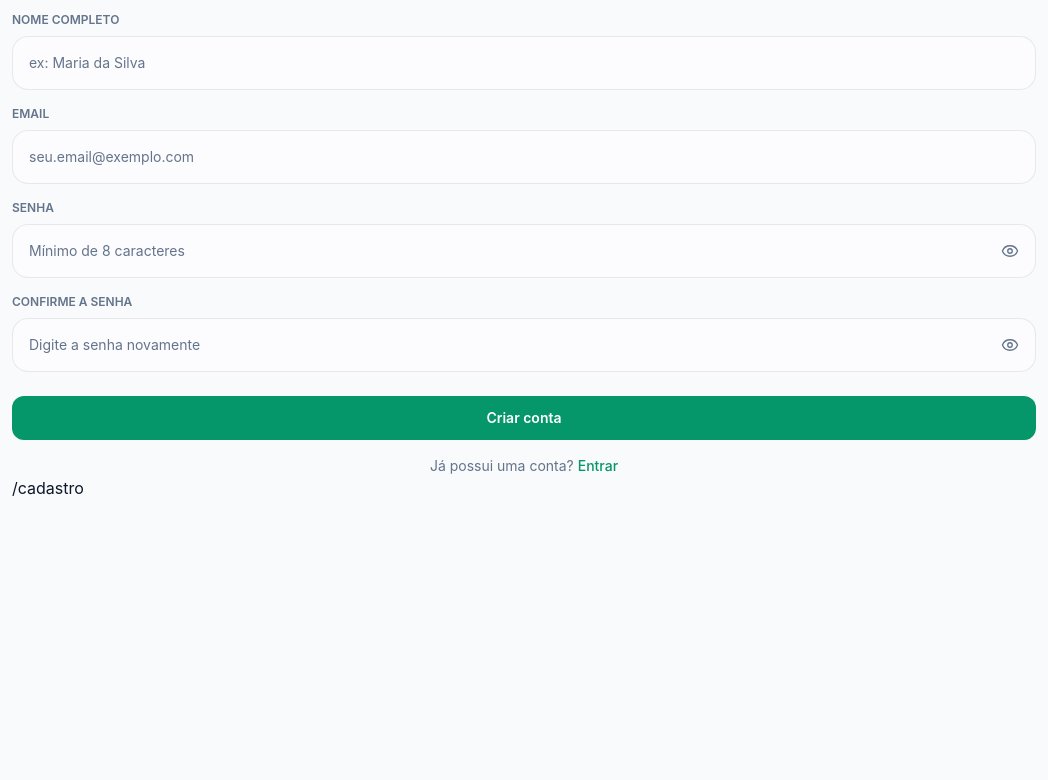
Test case: RegisterForm › exibe mensagem segura para e-mail já cadastrado
Type "Test User" into the field labelled "Nome completo" at coordinates (524, 63), box x1=29 y1=53 x2=1019 y2=73
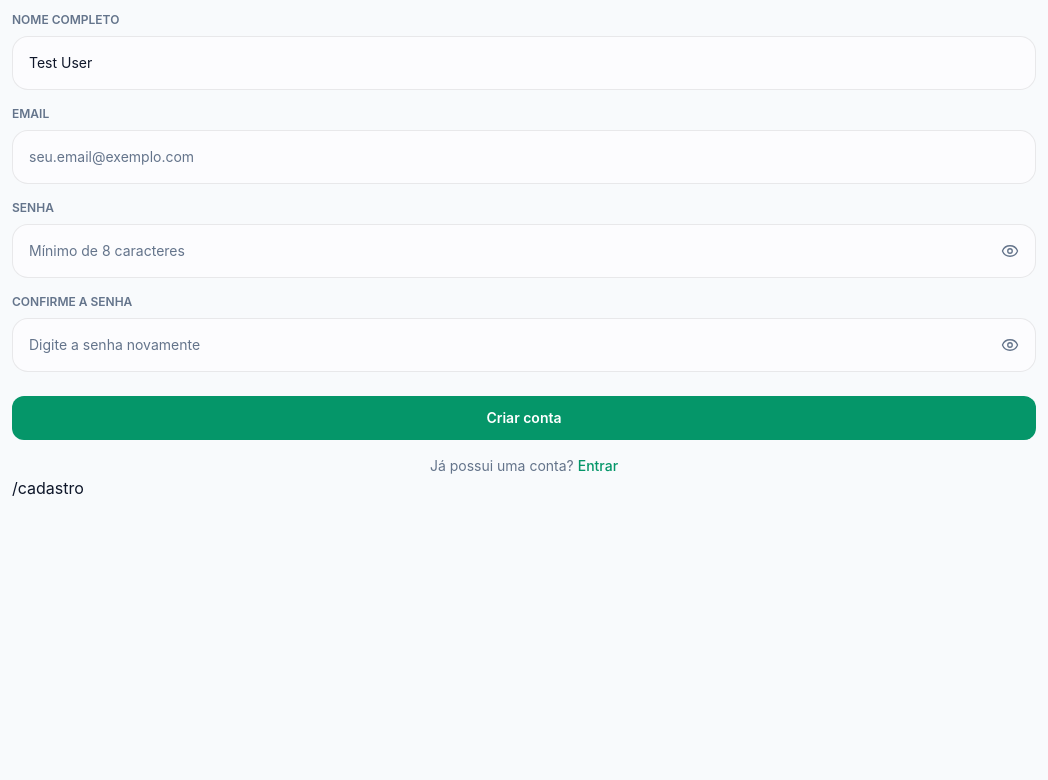
Type "user@example.test" into the field labelled "Email" at coordinates (524, 157), box x1=29 y1=147 x2=1019 y2=167
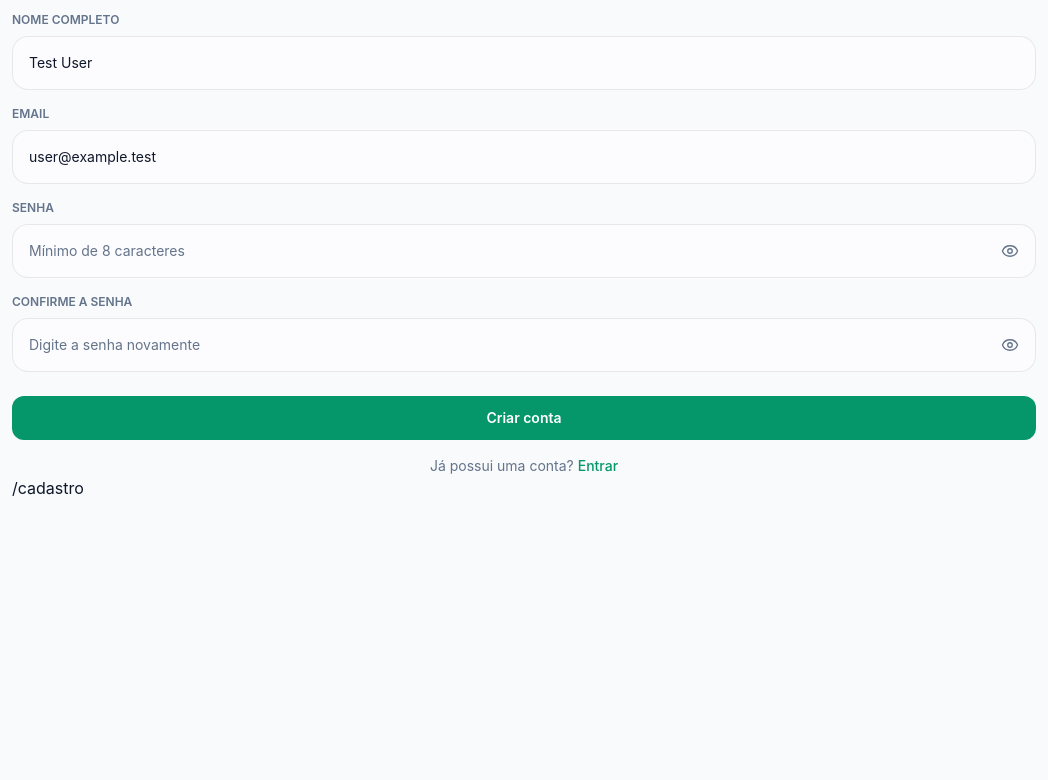
Type "password123" into the password field labelled "Senha" at coordinates (509, 251), box x1=29 y1=241 x2=989 y2=261
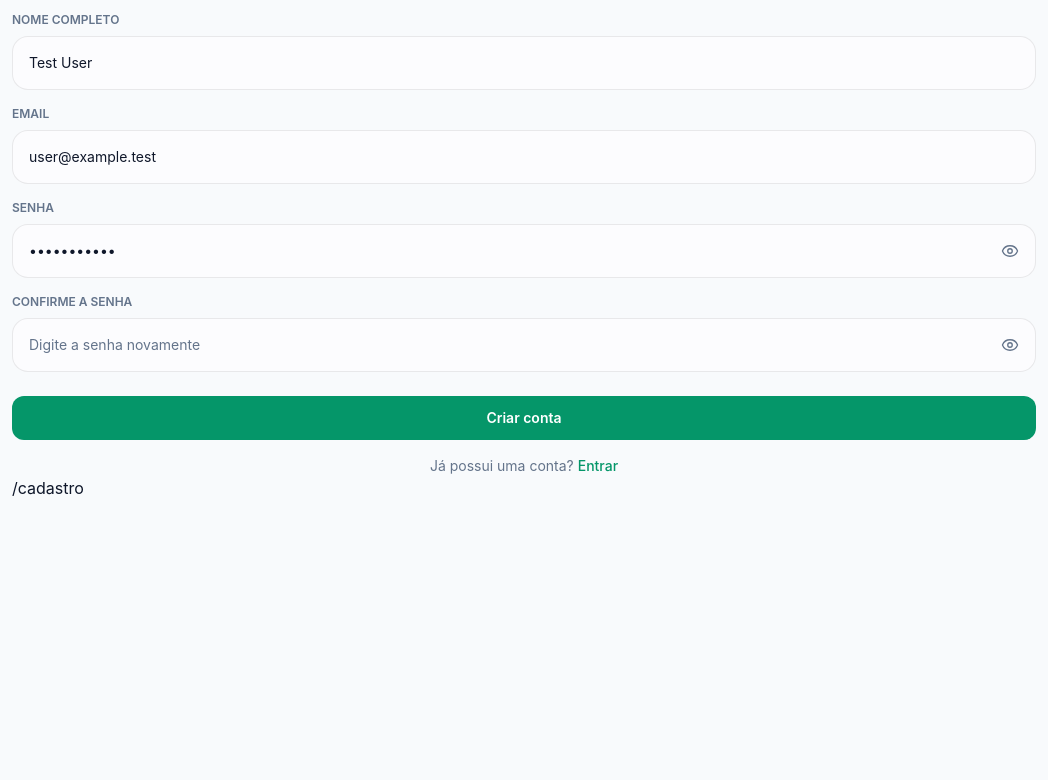
Type "password123" into the password field labelled "Confirme a senha" at coordinates (509, 345), box x1=29 y1=335 x2=989 y2=355
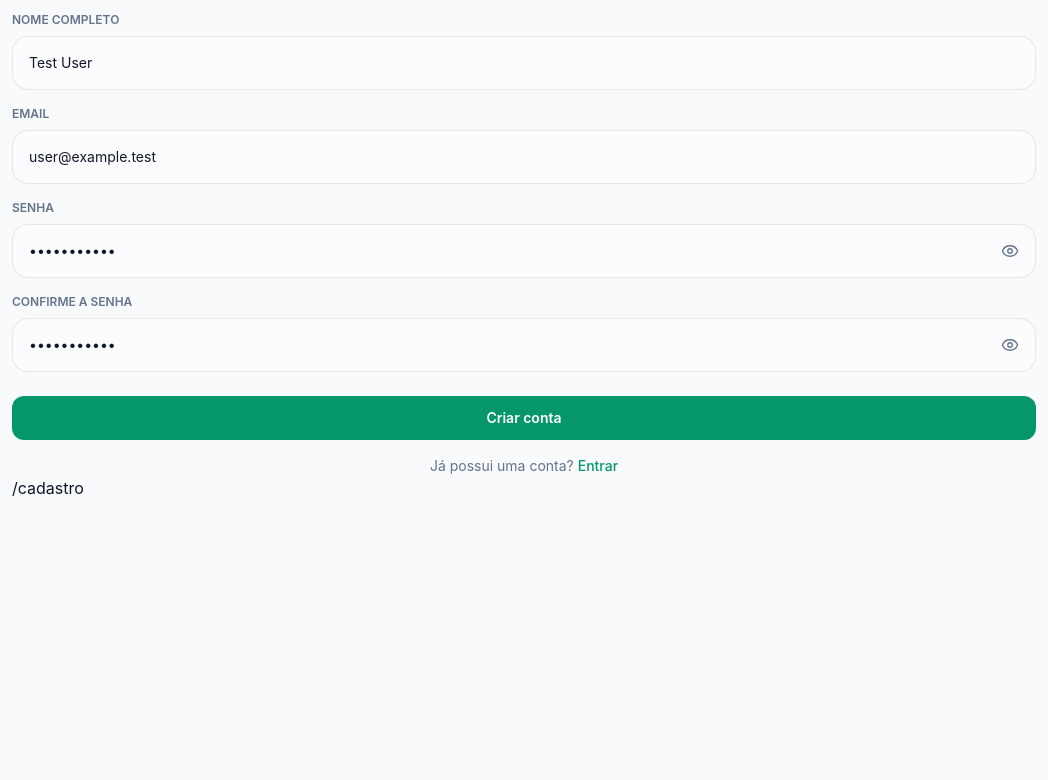
Click the button "Criar conta" at coordinates (524, 418), box x1=12 y1=396 x2=1036 y2=440
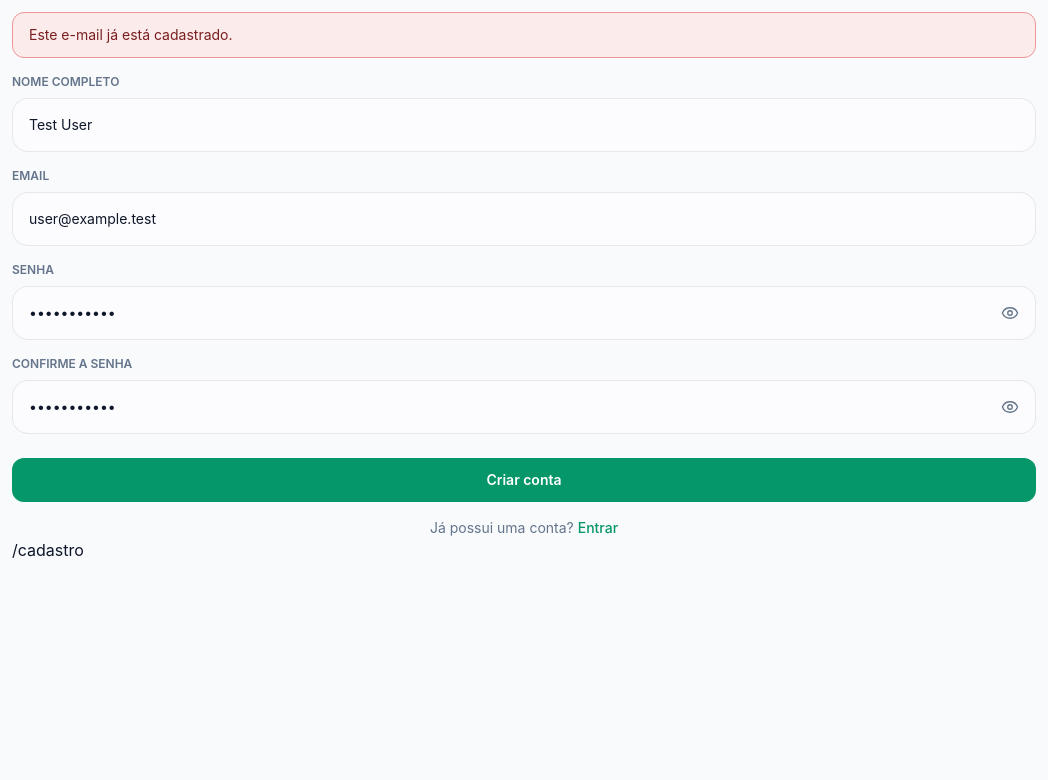
Result: the text "Este e-mail já está cadastrado." is shown at x1=12 y1=12 x2=1036 y2=58
